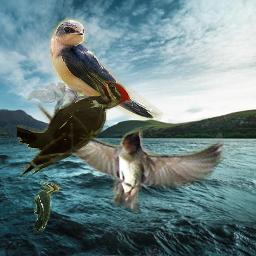Swallow: (34, 101, 227, 217), (49, 14, 164, 124)
Woodpecker: (17, 72, 132, 178), (33, 182, 59, 233)
